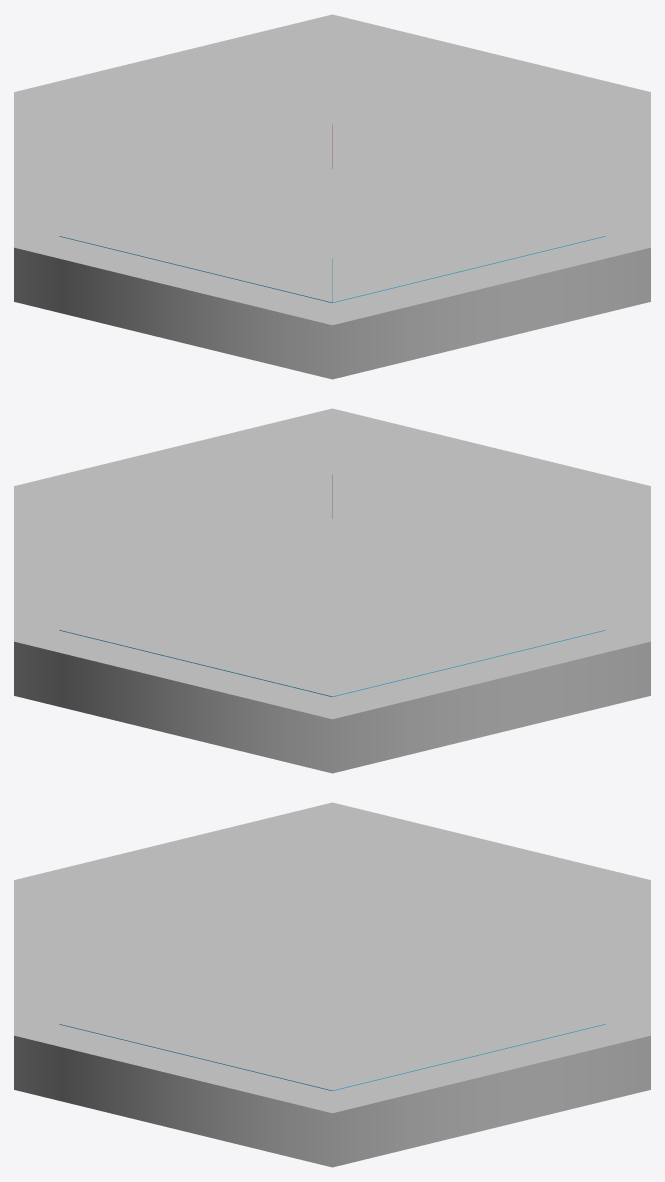
Rendered from Puzzle_10.FBX.
3 views of the same model, one above another, from view 1: azimuth 30°, elevation 25°; view 2: azimuth 150°, elevation 25°; view 3: azimuth 270°, elevation 25° (orthographic).
Parts seen in each view (by area): view 1: Cylinder001, 1, 7, object 6, 5, 6, 4, 8; view 2: Cylinder001, 1, object 6, 7, 5, 6, 4, 8; view 3: Cylinder001, 1, object 6, 7, 5, 6, 4, 8.
Part boxes in pixels (box(x1,y1,x2,y2)): Cylinder001: box(14, 14, 650, 379); 1: box(151, 80, 605, 168); 7: box(332, 141, 605, 302); object 6: box(59, 36, 526, 146); 5: box(148, 125, 332, 302); 6: box(242, 147, 514, 235); 4: box(59, 125, 240, 258); 8: box(241, 191, 425, 257); Cylinder001: box(14, 408, 650, 773); 1: box(59, 477, 332, 651); object 6: box(59, 535, 421, 696); 7: box(138, 430, 605, 518); 5: box(242, 496, 605, 629); 6: box(229, 474, 423, 585); 4: box(332, 586, 605, 675); 8: box(421, 496, 514, 585); Cylinder001: box(14, 802, 650, 1167); 1: box(253, 913, 514, 1090); object 6: box(410, 868, 605, 1071); 7: box(59, 890, 253, 1071); 5: box(59, 845, 423, 979); 6: box(151, 913, 332, 1026); 4: box(243, 824, 515, 934); 8: box(150, 891, 331, 958).
Bounding box in the file's own units: 4 × 0.3294 × 3.46.
